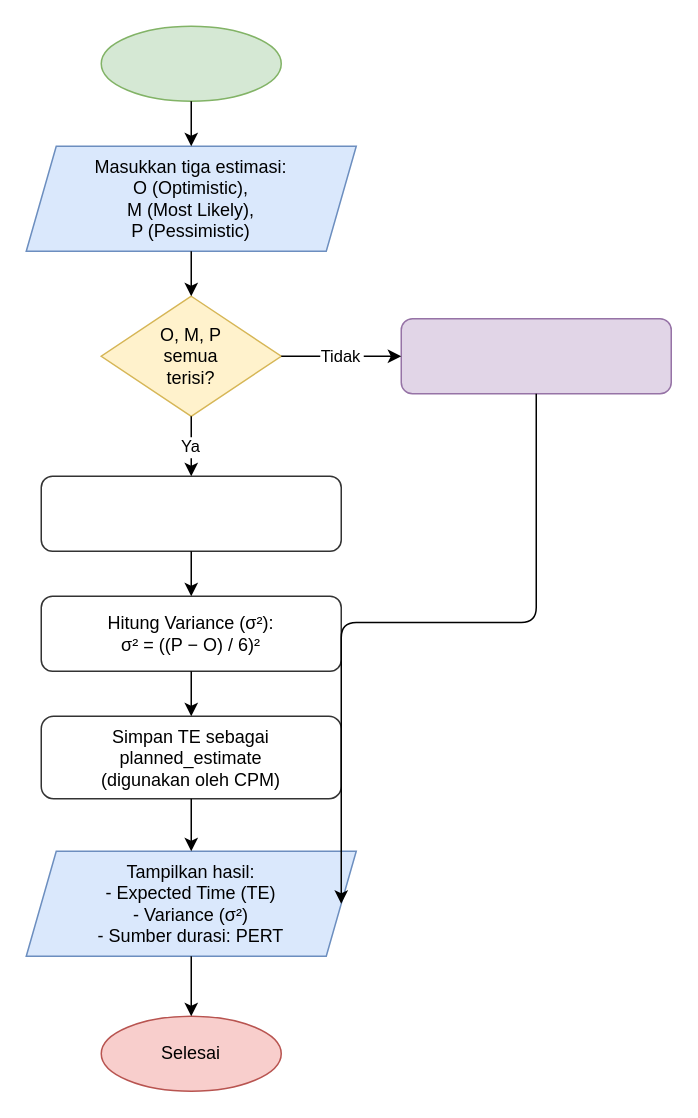
Some shapes in this 698 by 1118 pixel diagram are drawn without their labels. Each missing label, with the centre of its shape:
"Gunakan time_estimate manual sebagai durasi" belongs at (535,355).
"Hitung Expected Time (TE): TE = (O + 4M + P) / 6" belongs at (190,513).
"Mulai" belongs at (190,63).
